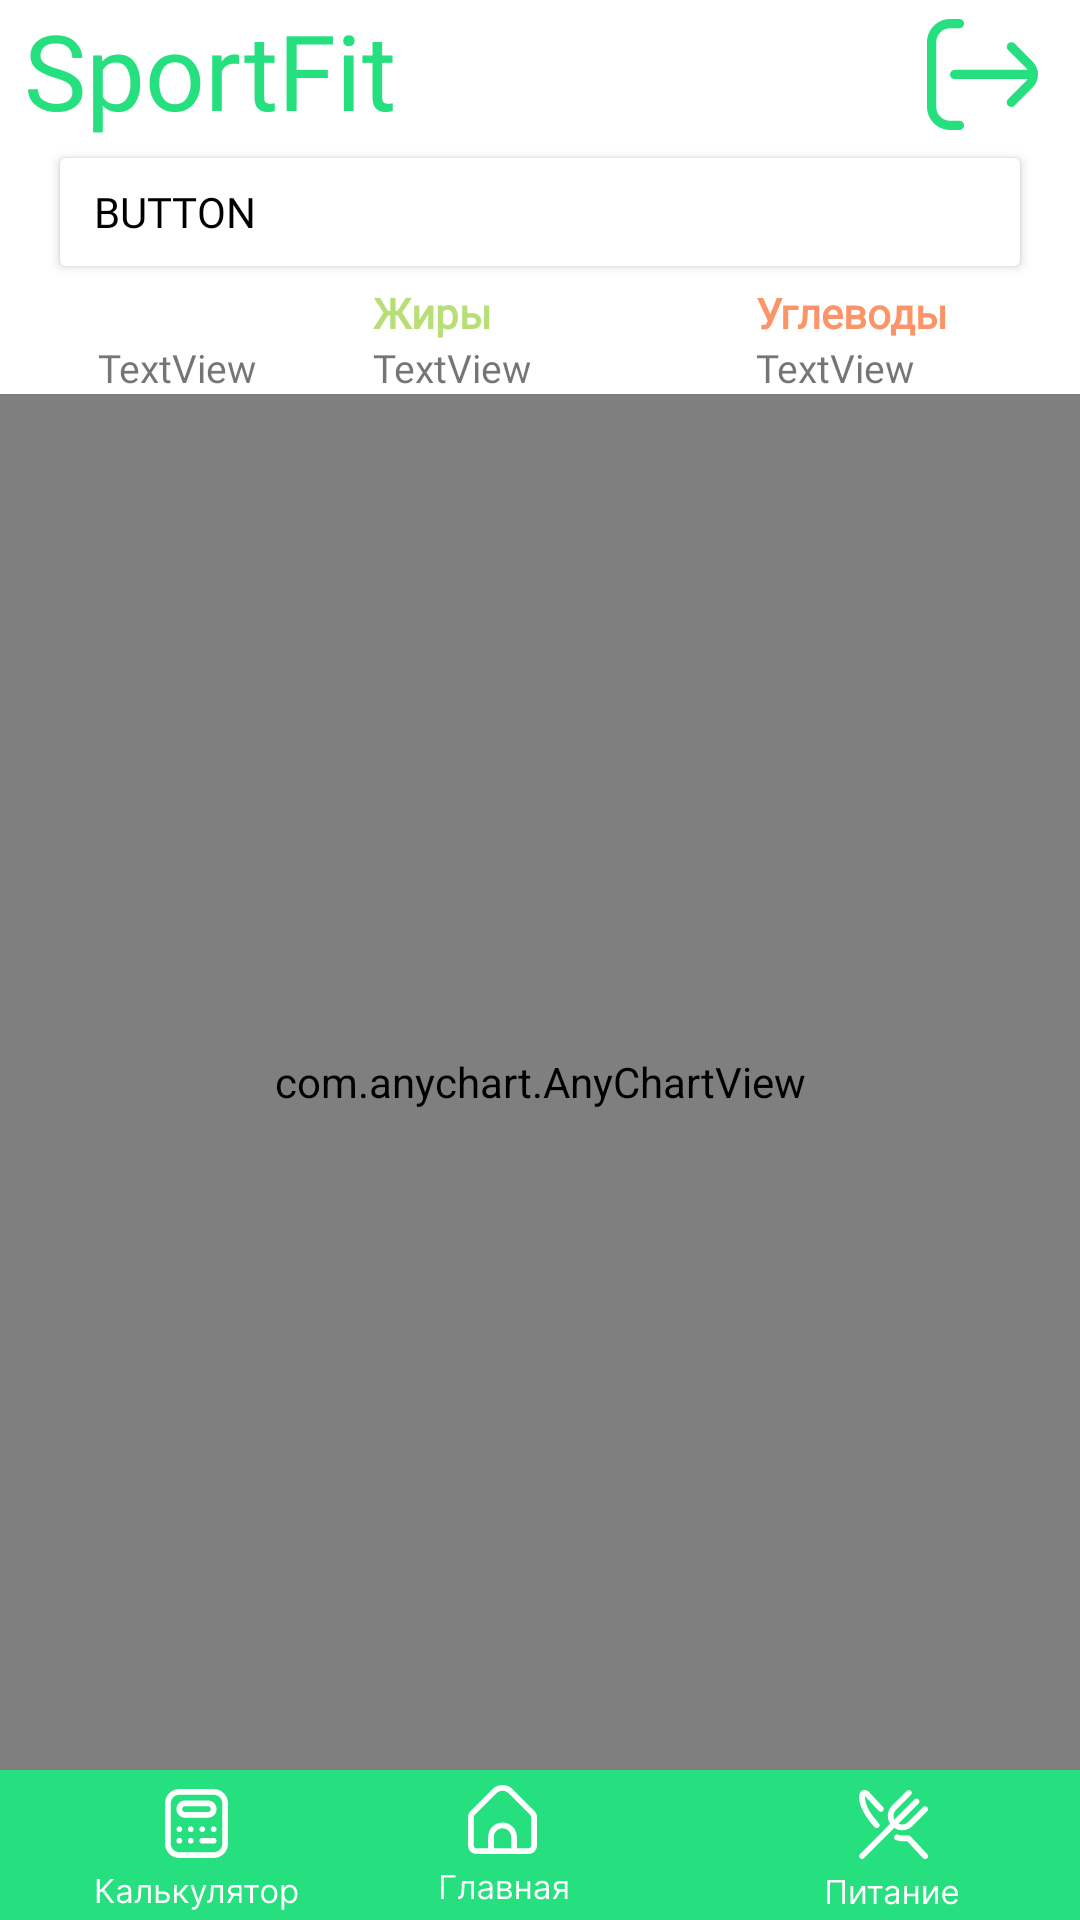

Named icons in this screenshot (1080*1920) and their centers, (x=x, y=y):
sign out: (x=982, y=74)
